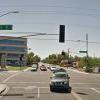Traffic light: (52, 22, 77, 50)
